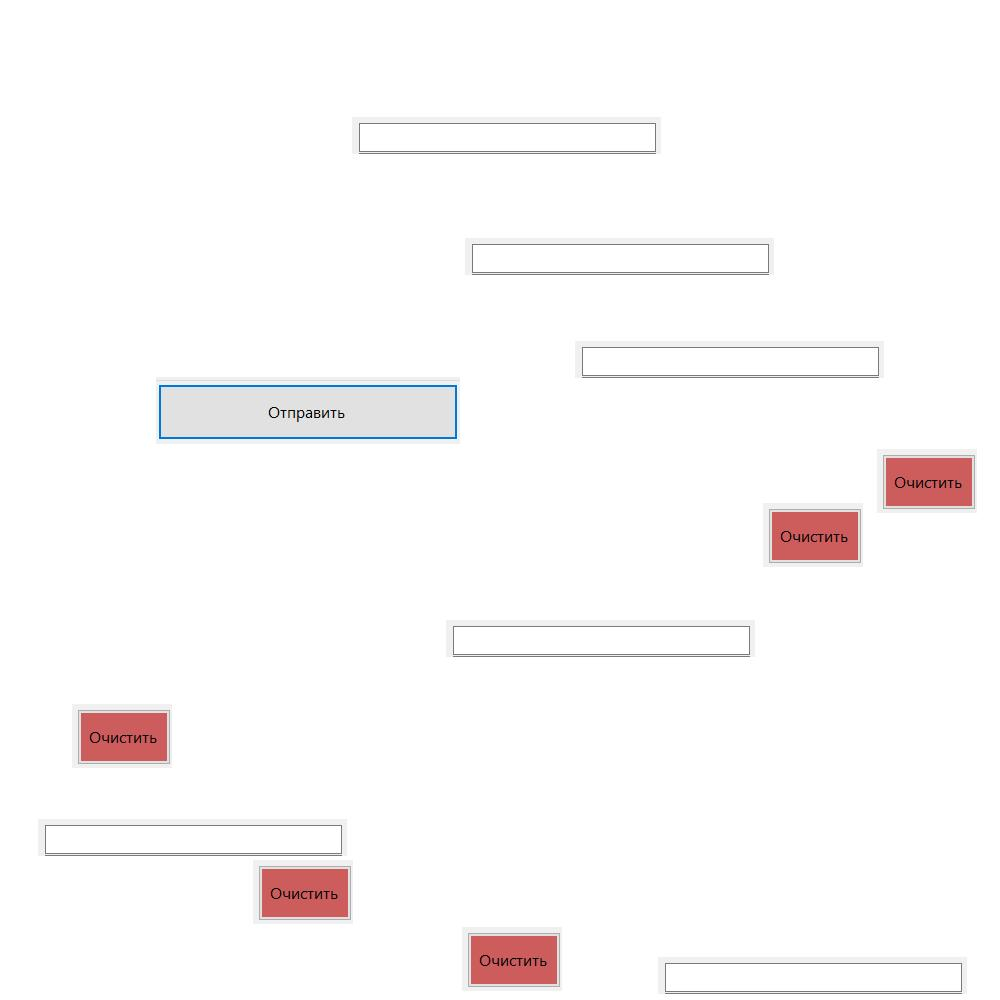Button: (156, 377, 460, 444), (72, 704, 172, 768), (462, 927, 562, 991), (253, 860, 353, 924), (877, 449, 977, 513), (763, 503, 863, 567)
EditText-: (446, 620, 755, 657), (575, 341, 884, 378), (658, 957, 967, 994), (38, 819, 347, 856), (352, 117, 661, 154), (465, 238, 774, 275)
